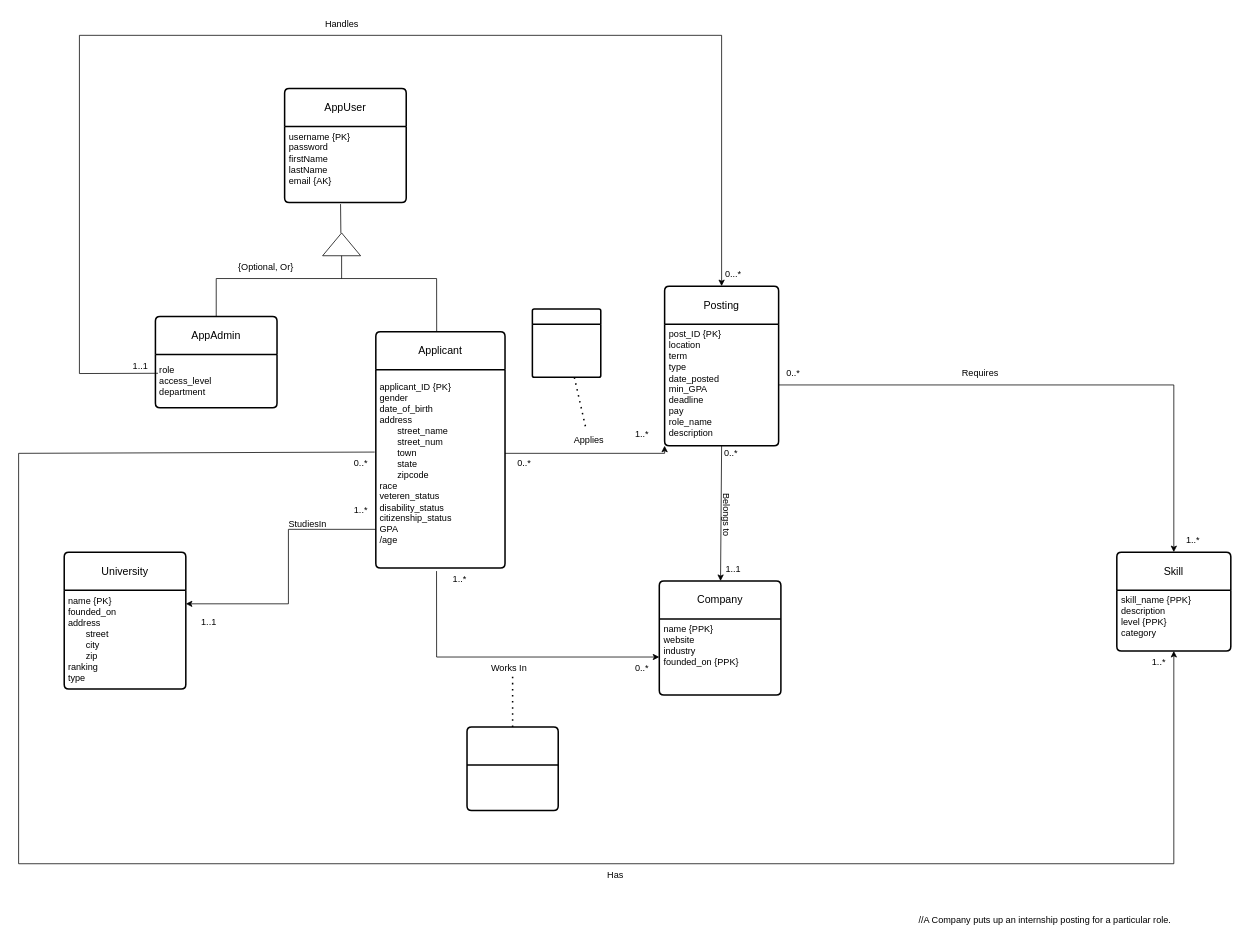
Image size: 1245x945. Some labels were removed from this diagram. Each missing label, with the centre of its shape:
"date status sponsorship? relocation?" belongs at point 566,343.
"Salary Months Postion" belongs at point 512,768.
